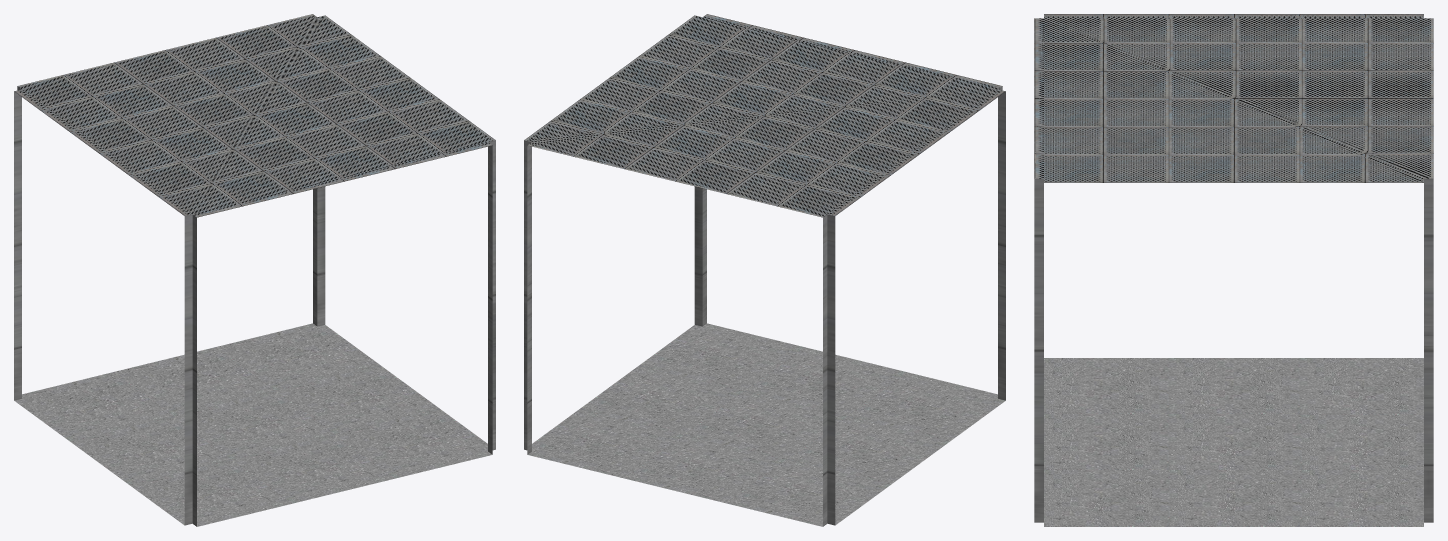
Rendered from Empty.fbx.
3 renders of one model, left to right at view 1: azimuth 30°, elevation 25°; view 2: azimuth 150°, elevation 25°; view 3: azimuth 270°, elevation 25°, orthographic. The views are drawn at different scales.
Parts seen in each view (by area): view 1: Room.006; view 2: Room.006; view 3: Room.006.
Boxes of the visible parts, bbox=[...] form: Room.006: bbox=[14, 14, 495, 526]; Room.006: bbox=[524, 14, 1005, 526]; Room.006: bbox=[1034, 14, 1433, 526].
Bounding box in the file's own units: 200 × 190 × 200.
